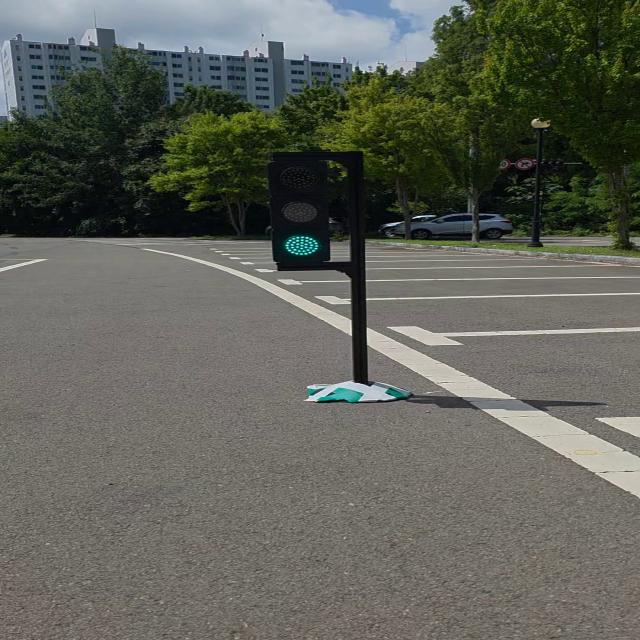green: (271, 155, 338, 267)
